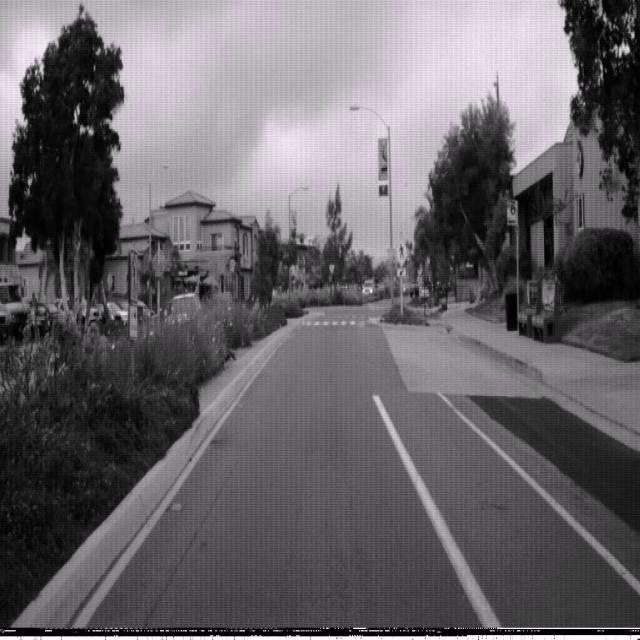pedestrianCrossing: (394, 239, 408, 266)
